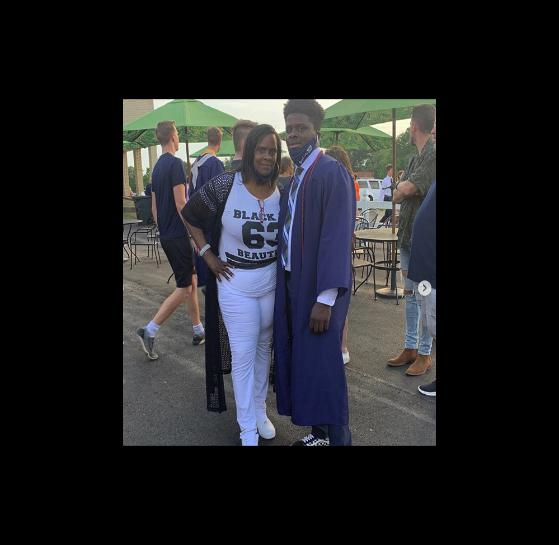mask_weared_incorrect: (284, 122, 318, 159), (254, 141, 276, 183)
without_mask: (404, 118, 419, 144), (171, 128, 181, 153)
